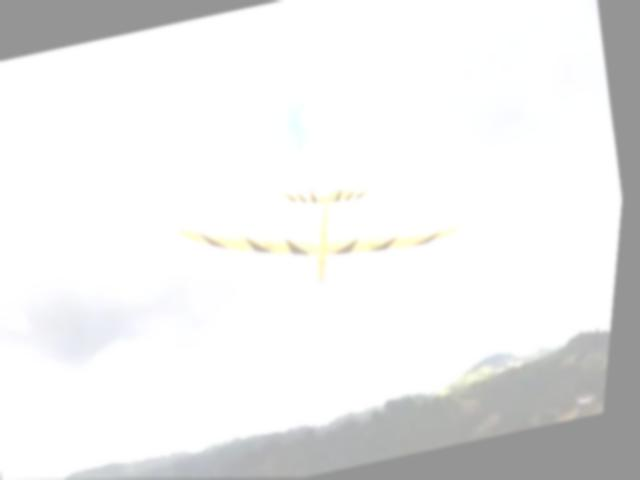iha: (155, 107, 487, 319)
